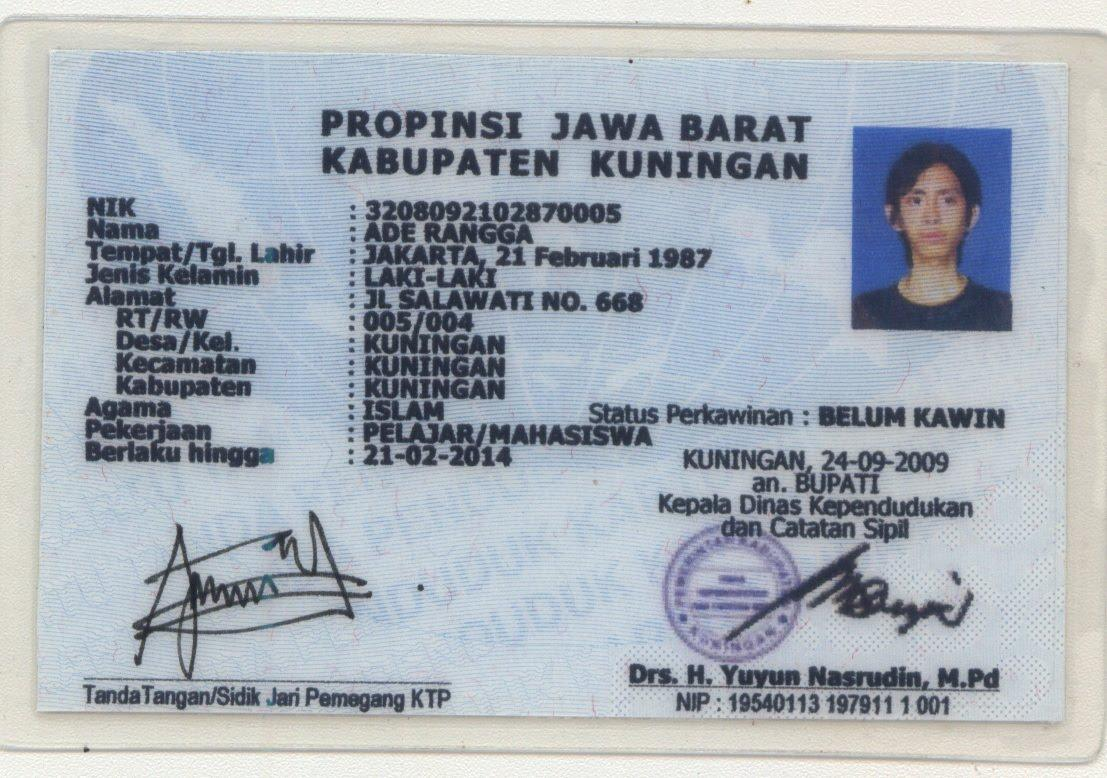ID-card: (43, 58, 1068, 711)
